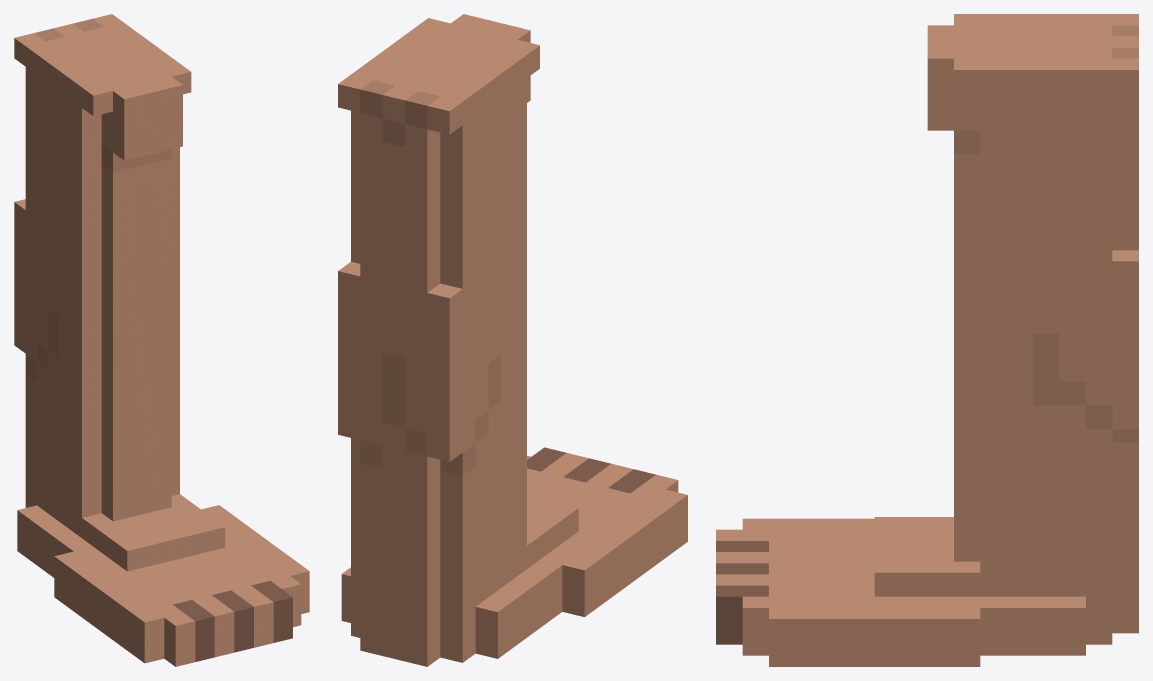
The model's file is Player0-6.obj.
3 views of the same model, side by side, from view 1: azimuth 30°, elevation 25°; view 2: azimuth 150°, elevation 25°; view 3: azimuth 270°, elevation 25° (orthographic). The views are drawn at different scales.
Bounding box in the file's own units: 0.9 × 2.4 × 1.6.
1 material, 1 textured.
